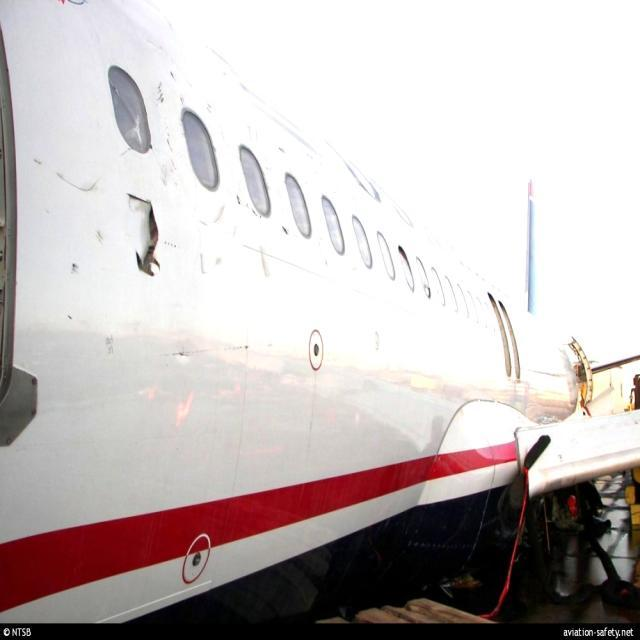crack: (121, 191, 169, 279)
